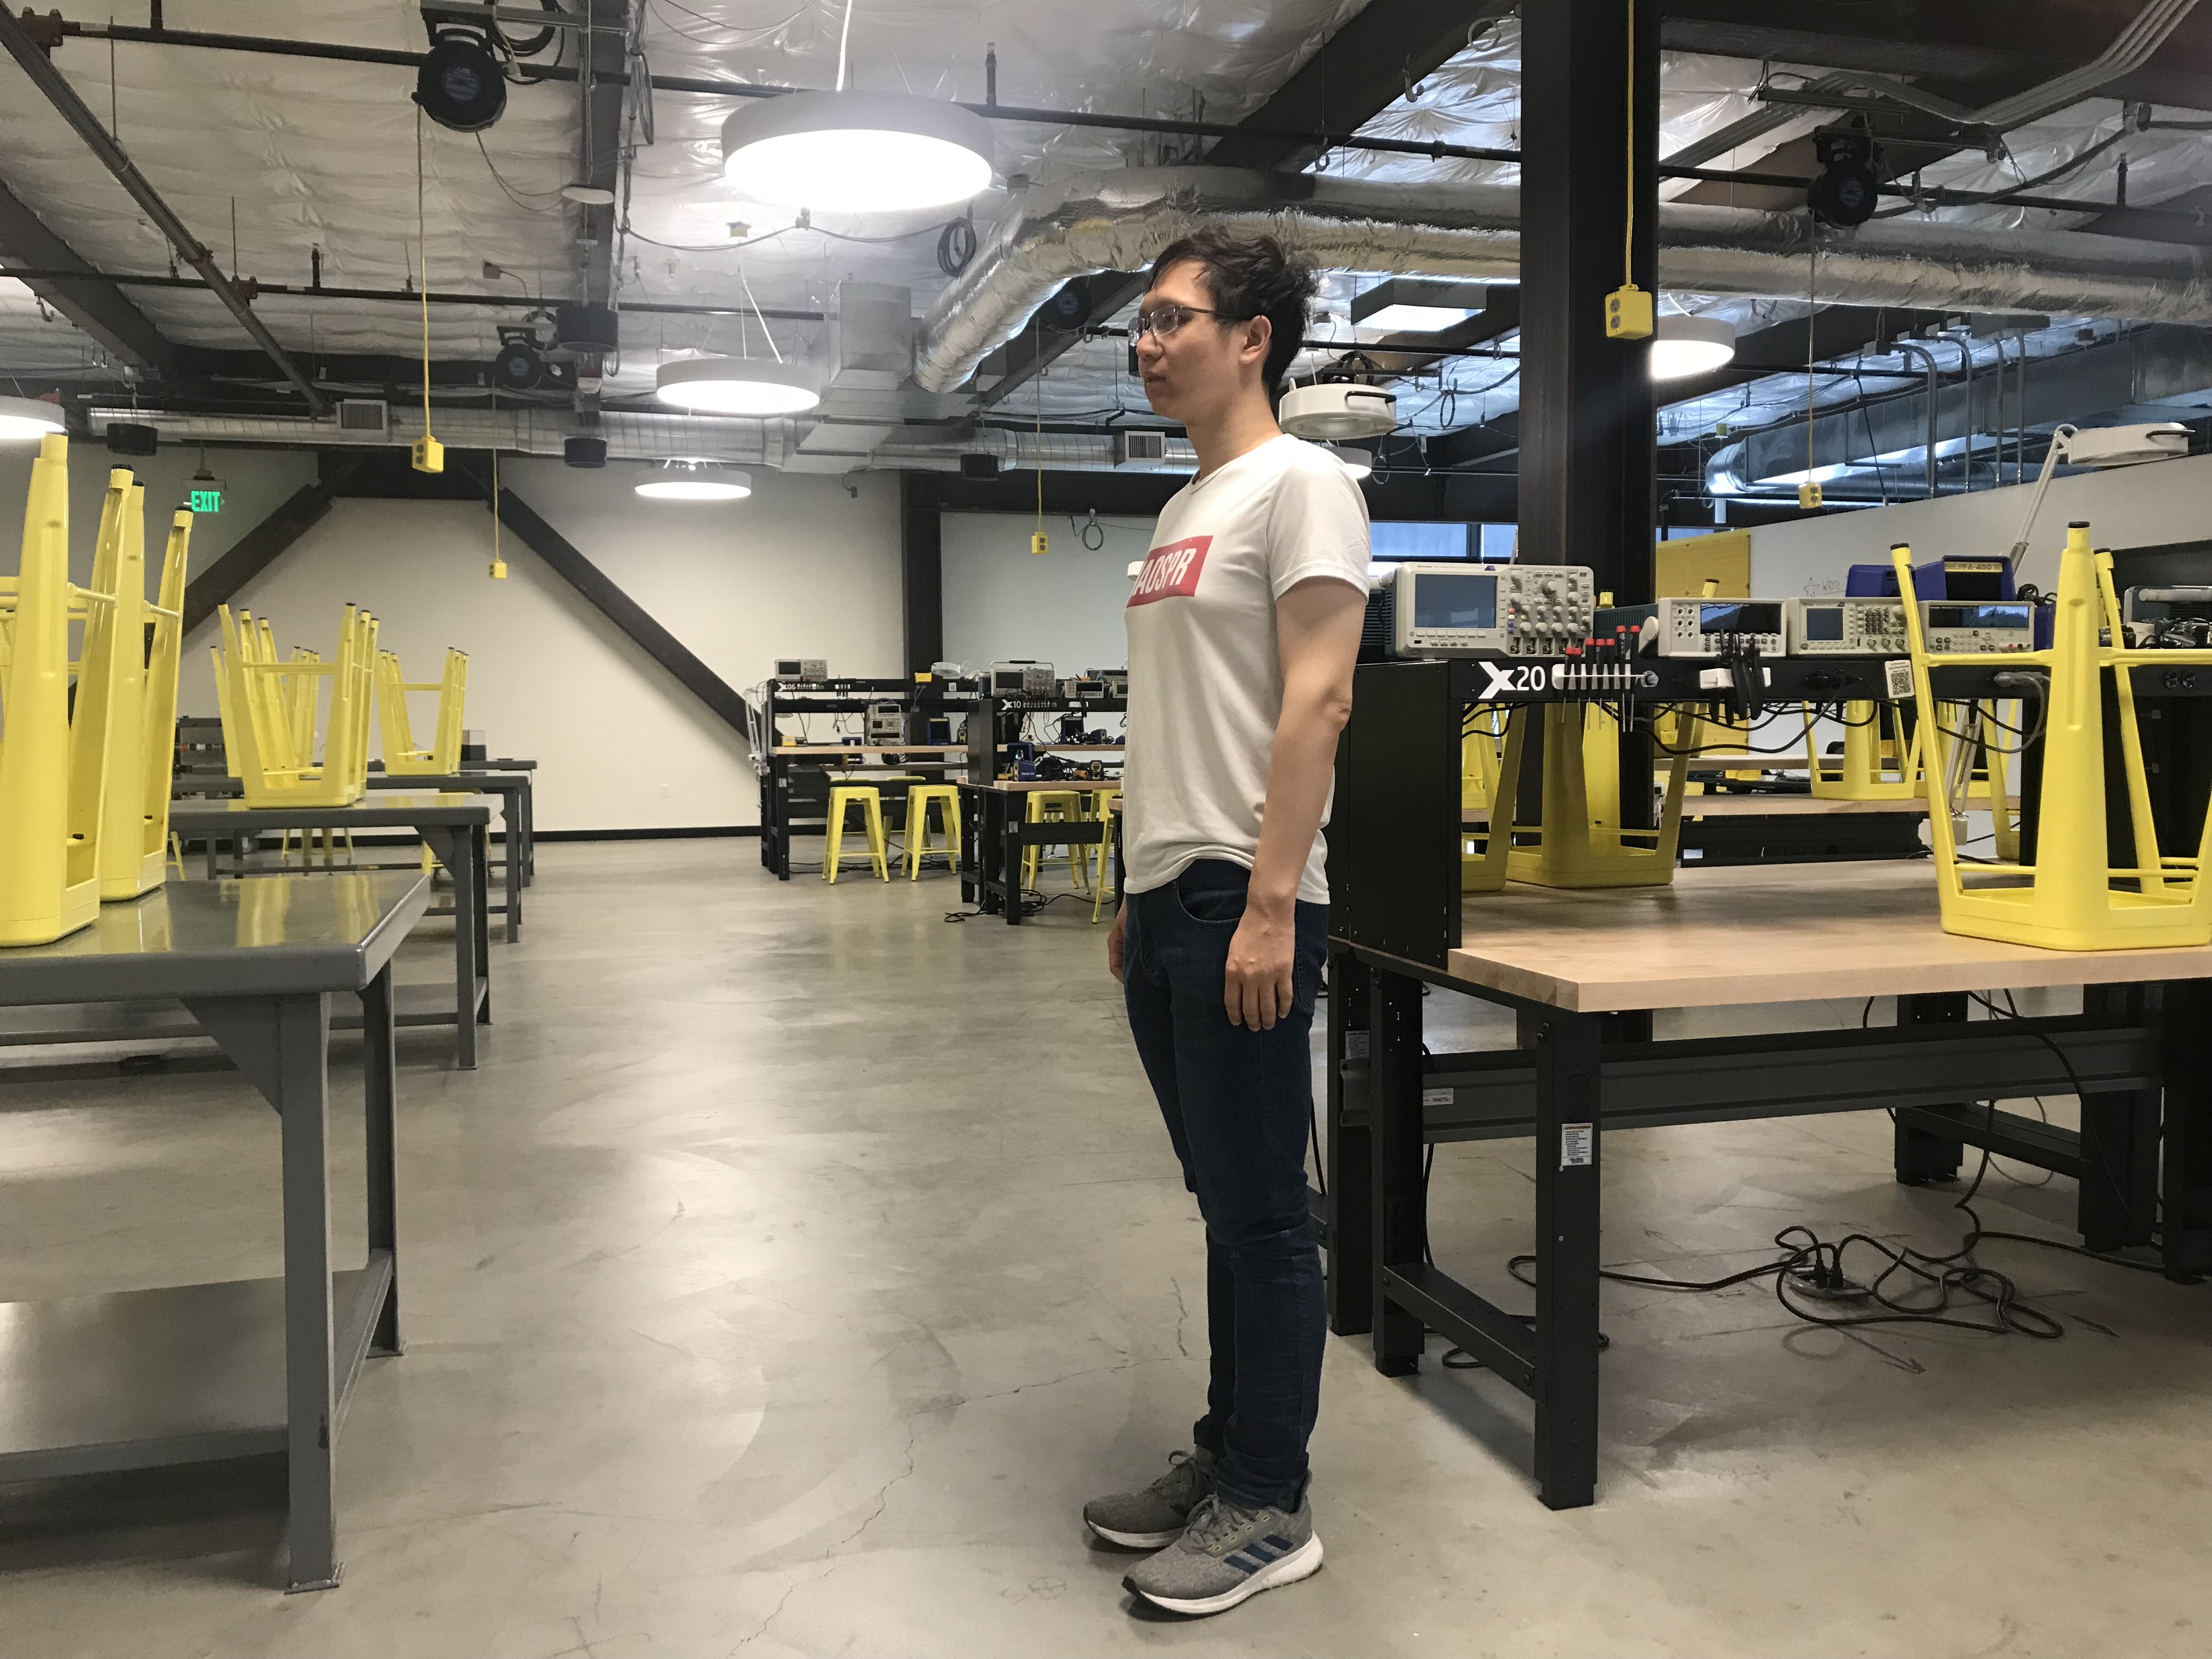attack_zone: (1153, 518, 1280, 830), (1982, 162, 2001, 174)
